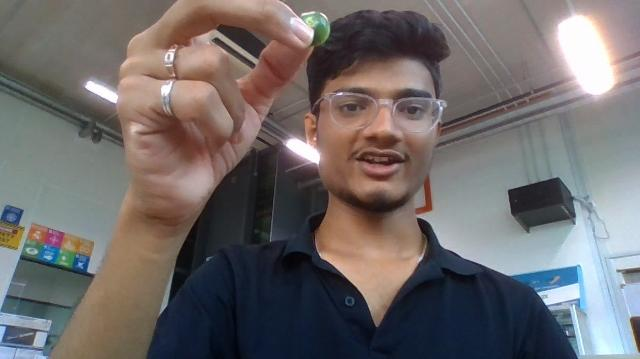Fruit Maturation: (299, 11, 331, 48)
